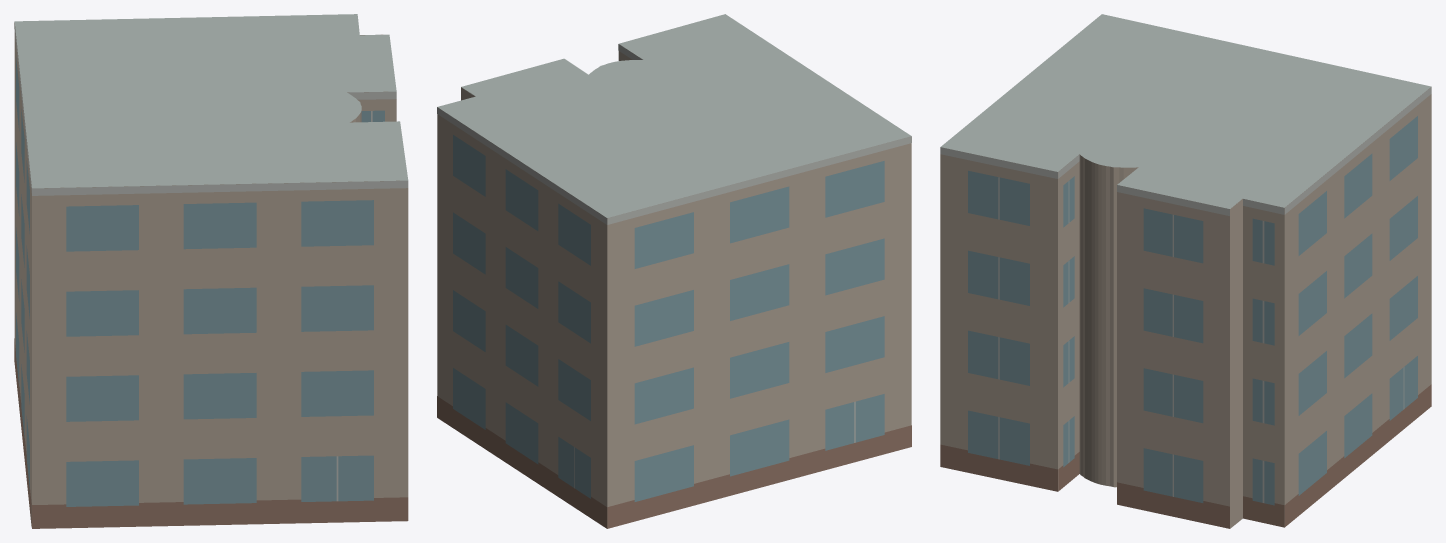
Rendered from survey-upis-32658627.glb.
The picture shows the model from 3 angles, left to right: view 1: azimuth 30°, elevation 25°; view 2: azimuth 150°, elevation 25°; view 3: azimuth 270°, elevation 25°; orthographic projection. The views are drawn at different scales.
Parts seen in each view (by area): view 1: survey-upis-32658627.tmp; view 2: survey-upis-32658627.tmp; view 3: survey-upis-32658627.tmp.
Boxes of the visible parts, bbox=[...] form: survey-upis-32658627.tmp: bbox=[14, 14, 408, 528]; survey-upis-32658627.tmp: bbox=[437, 14, 911, 528]; survey-upis-32658627.tmp: bbox=[940, 14, 1431, 528].
Size of the model in its own units: 14.35 by 10.96 by 15.27.
